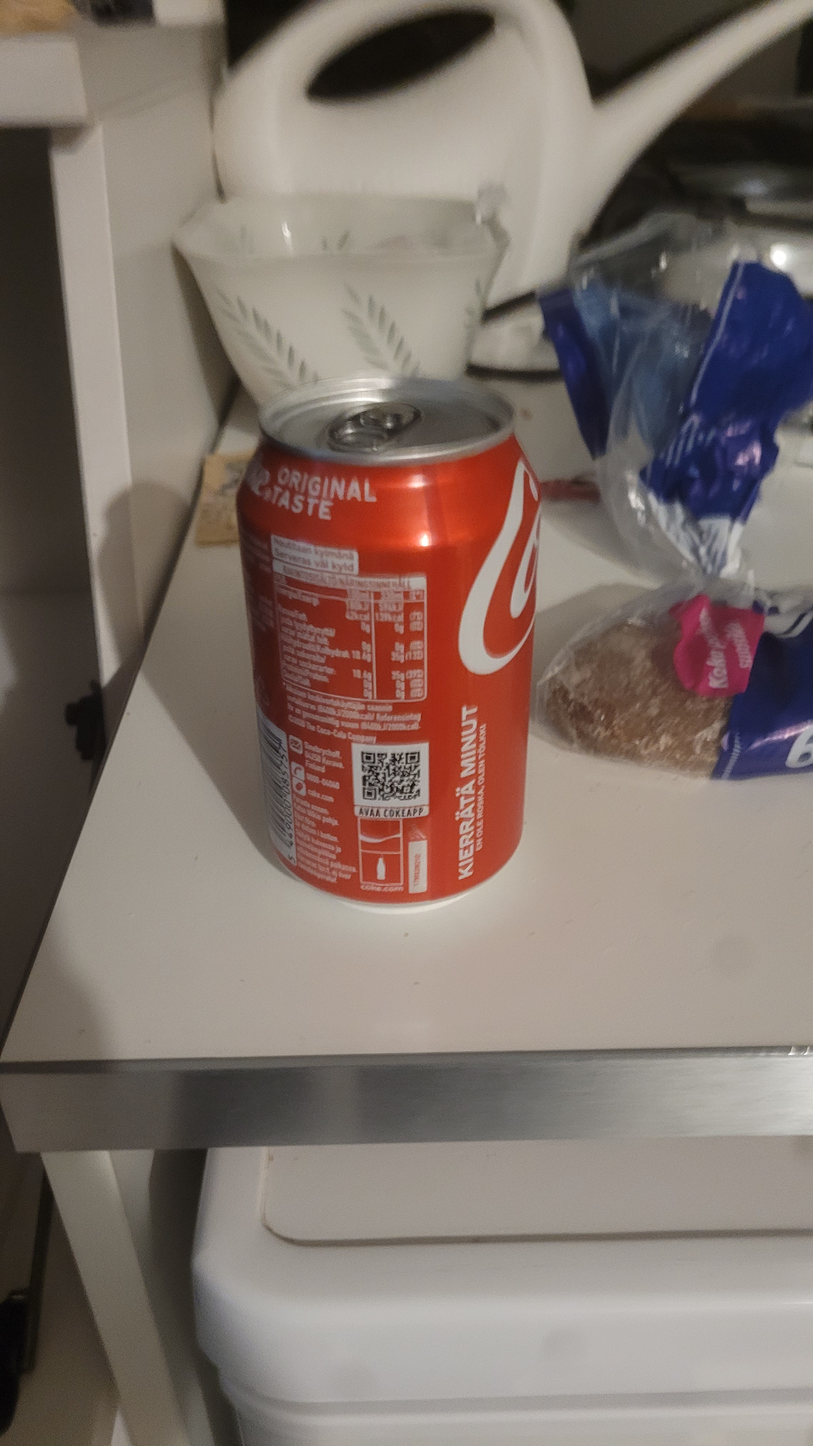Pantburk: (236, 375, 545, 912)
